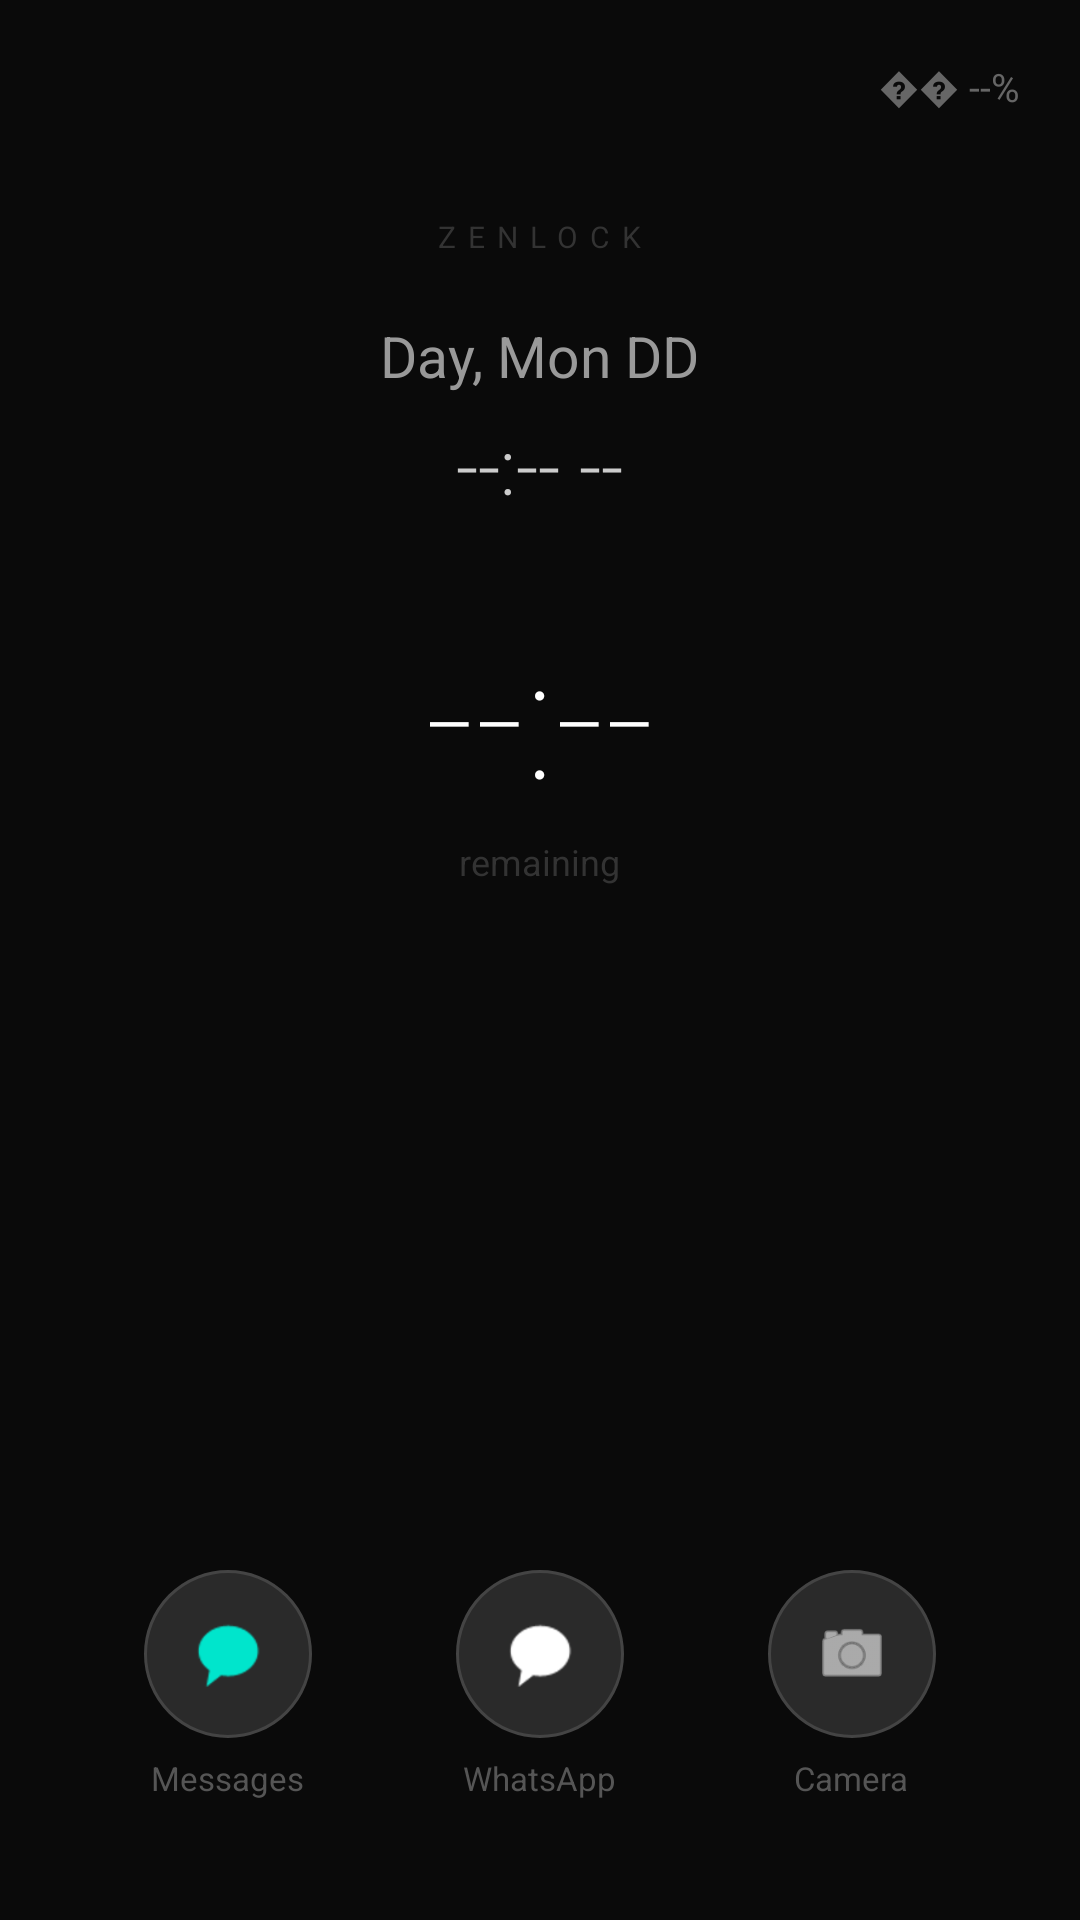

Named icons in this screenshot (1080 x 1920) and their bounding boxes, (x1, y1, x2, y2):
sym action chat: (510, 1624, 571, 1687), (198, 1625, 259, 1687)
